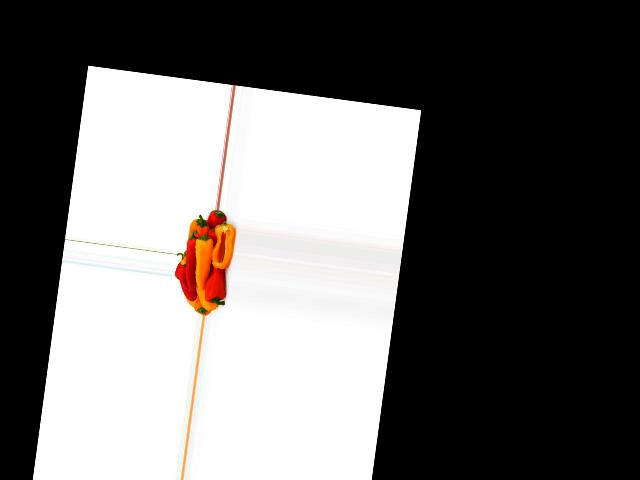bell_pepper: (202, 208, 226, 241)
